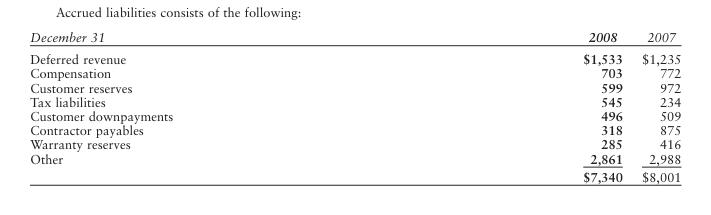table: (29, 28, 680, 183)
table column: (29, 28, 377, 183), (377, 28, 631, 183), (631, 28, 680, 183)
table column header: (29, 28, 680, 47)
table row: (29, 28, 680, 47), (29, 47, 680, 65), (29, 166, 680, 183), (29, 150, 680, 166), (29, 93, 680, 108), (29, 65, 680, 79), (29, 79, 680, 93), (29, 108, 680, 122), (29, 122, 680, 136), (29, 136, 680, 150)
